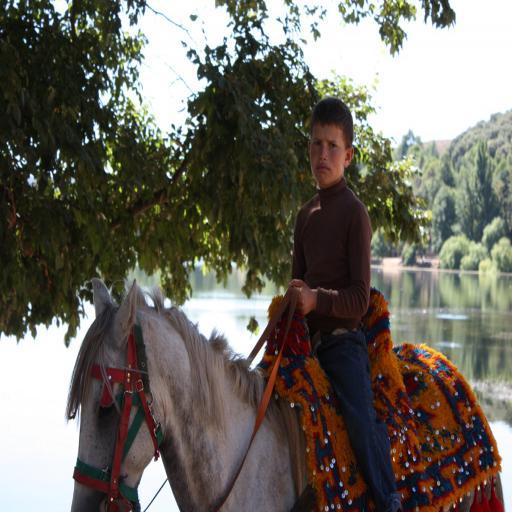Horse: (64, 280, 504, 512)
